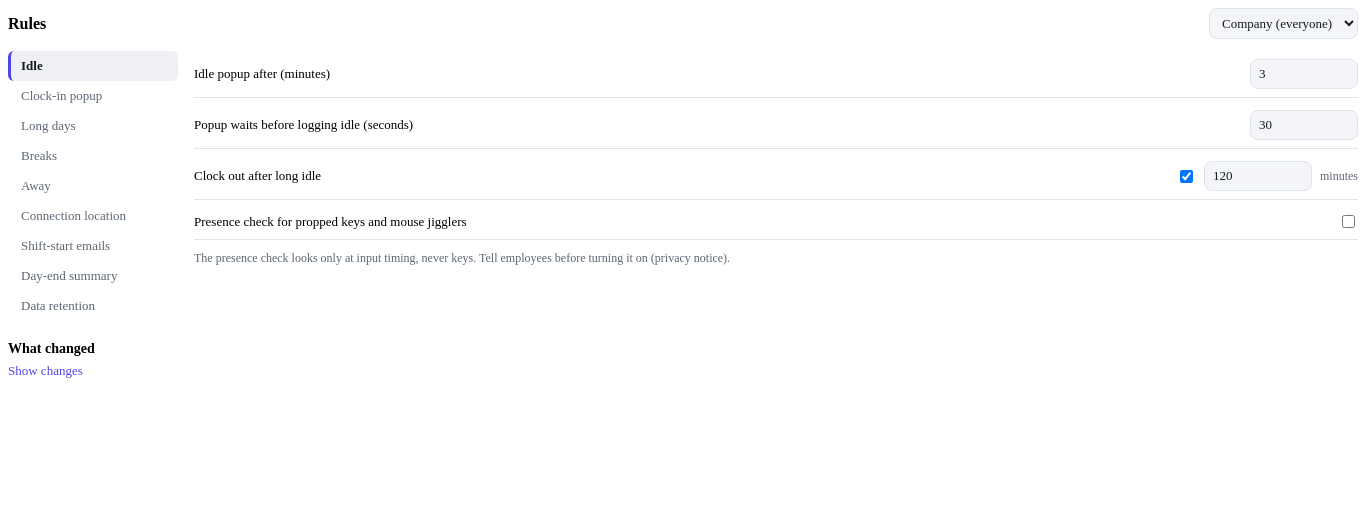
Test: Rules: refusals and checks › a refused save says why
Step 1. Replace the text in the number field named "prompt-wait" with "45" → (1304, 125), box [1250, 110, 1358, 140]
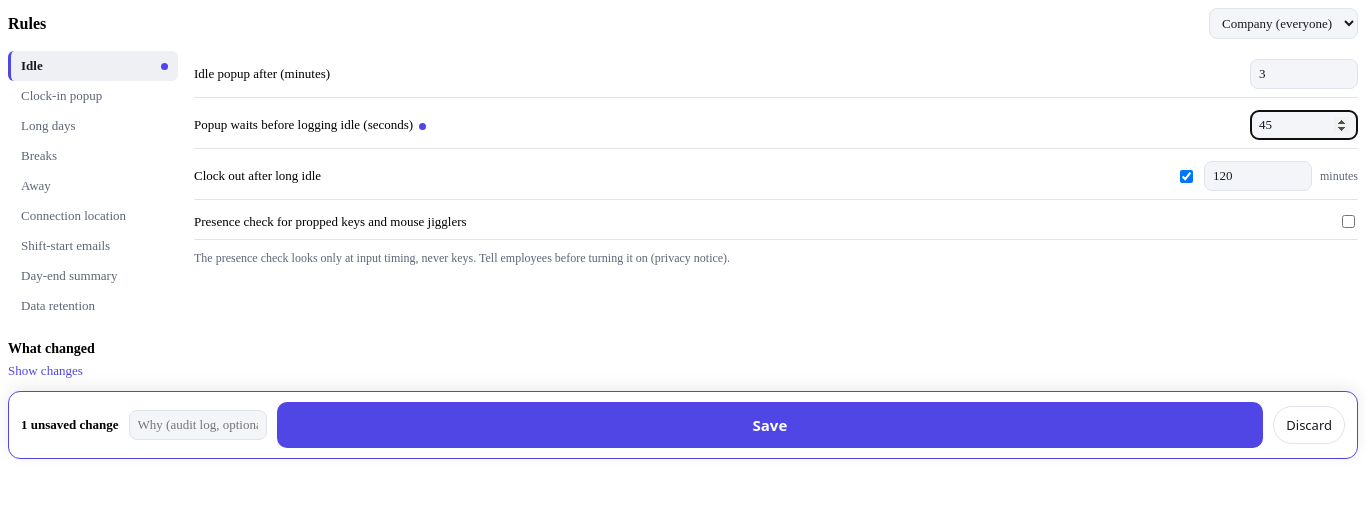
Step 2. Click the button "Save" → (770, 425), box [276, 402, 1263, 448]
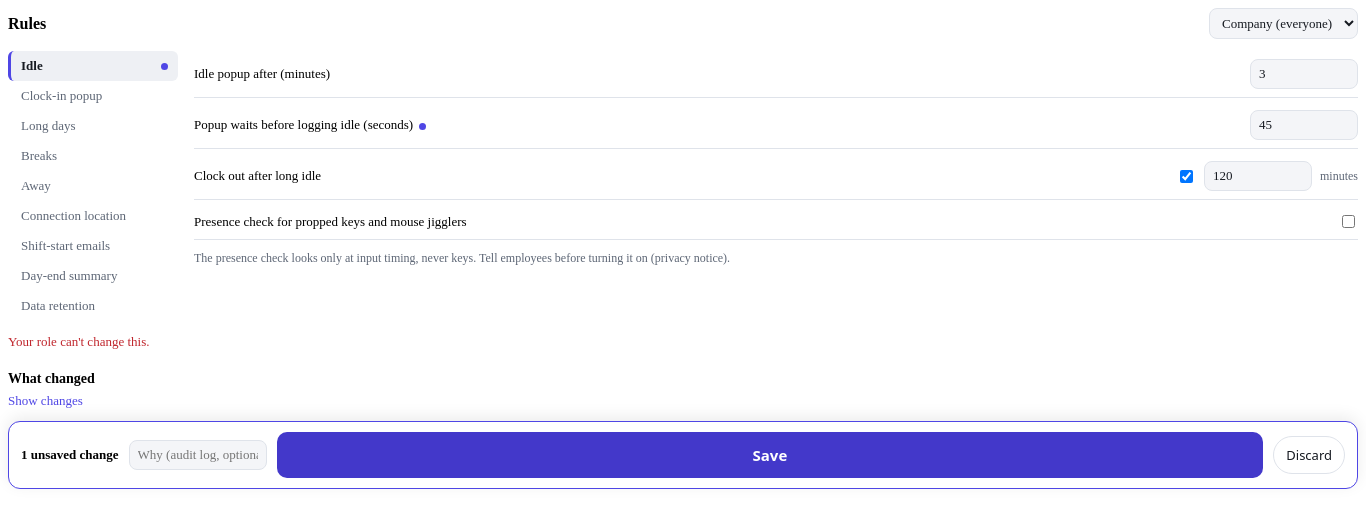
Expected: the message reads "Your role can't change this.", [8, 334, 150, 349]
